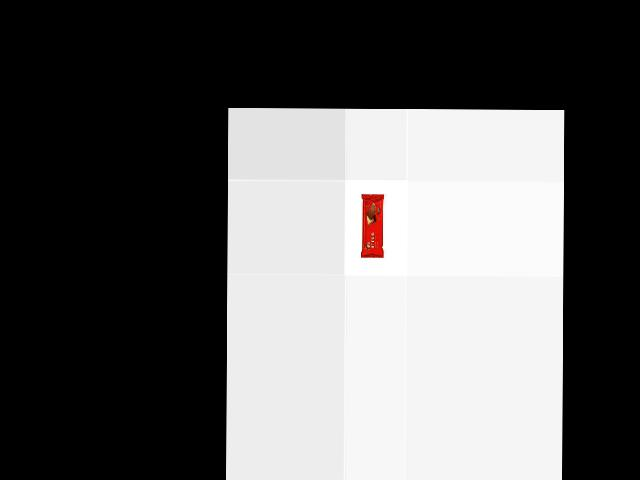chocolate: (361, 194, 384, 260)
